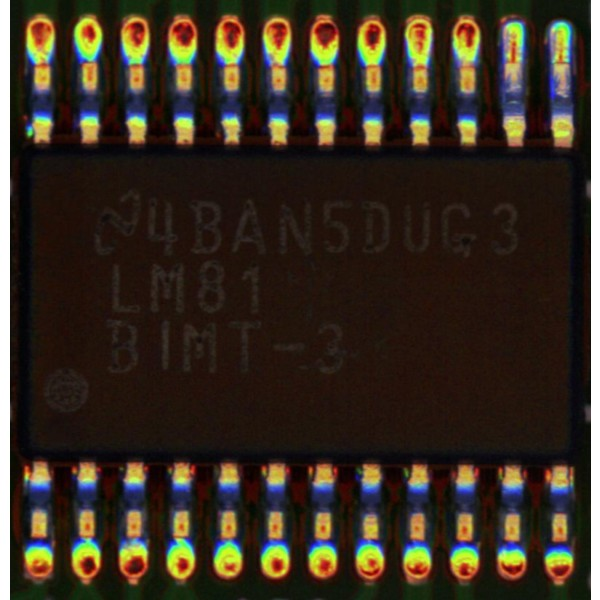Bad_podu: (554, 50, 569, 70), (507, 50, 520, 73)
